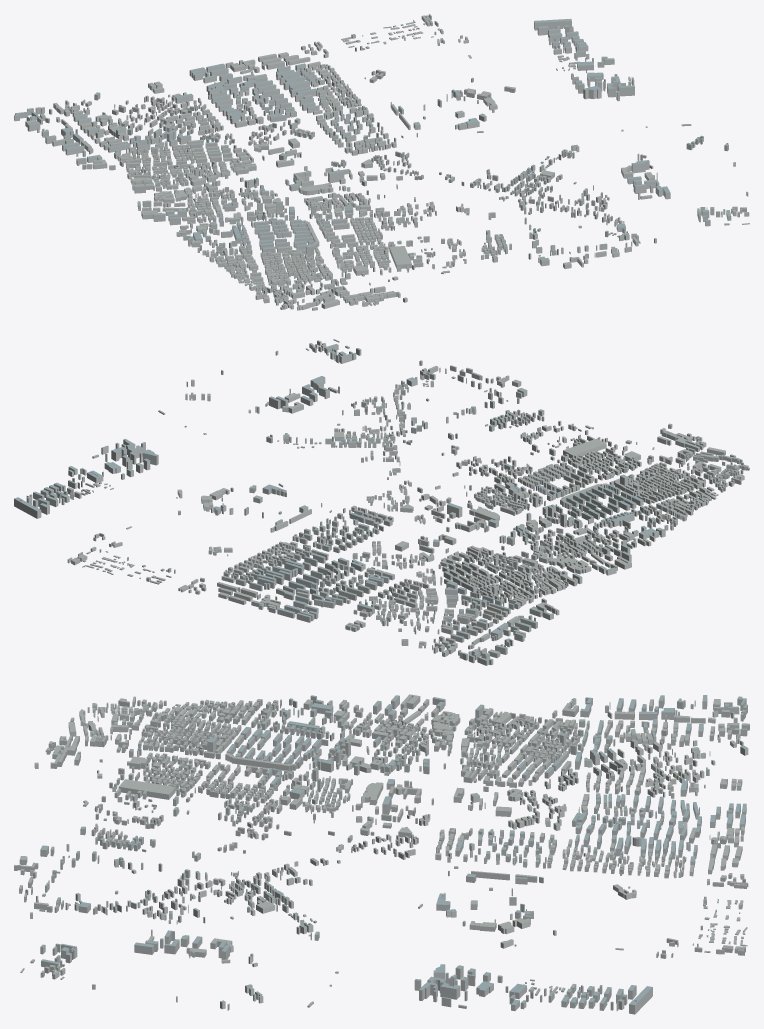
The model's file is far.glb.
3 renders of one model, top to bottom at view 1: azimuth 30°, elevation 25°; view 2: azimuth 150°, elevation 25°; view 3: azimuth 270°, elevation 25°, orthographic. The views are drawn at different scales.
Bounding box in the file's own units: 2136 × 46.39 × 2111.
